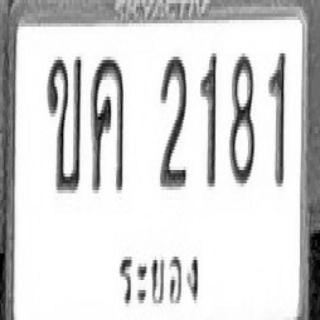A02: (46, 53, 81, 193)
A04: (90, 55, 124, 192)
N01: (267, 50, 286, 187), (199, 50, 217, 187)
N02: (159, 53, 186, 190)
N08: (228, 52, 254, 185)
P53: (113, 242, 204, 320)
